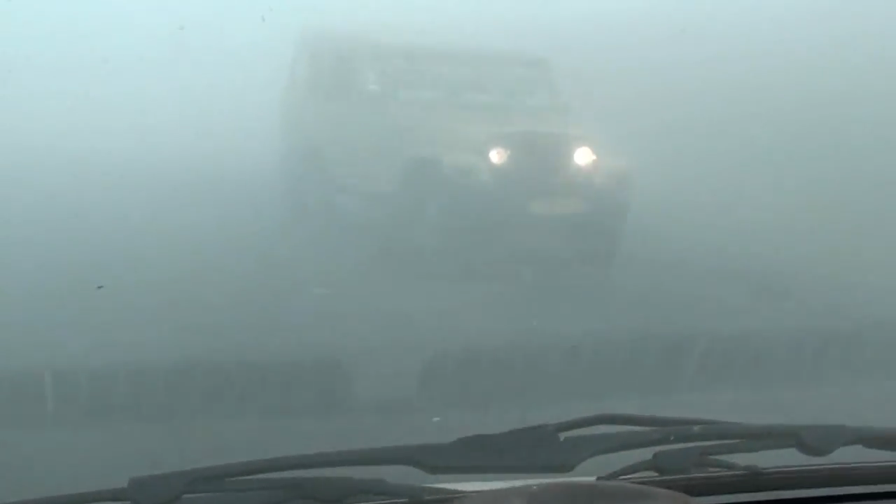car: (277, 27, 633, 275)
